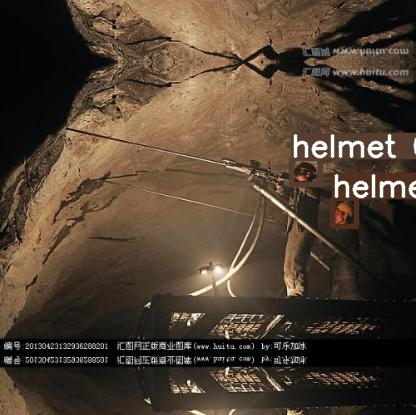helmet: (291, 158, 320, 184), (332, 198, 356, 226)
